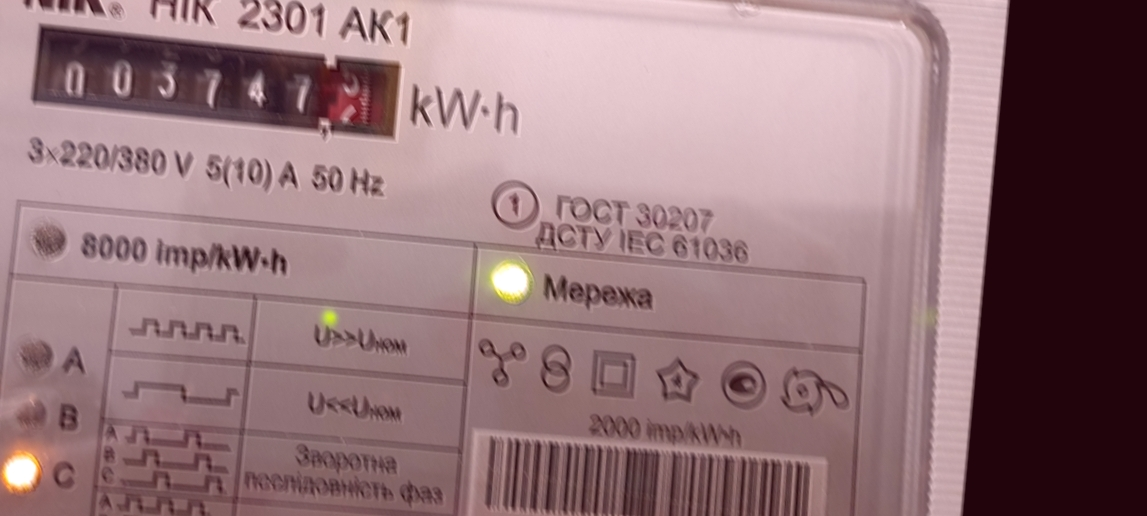0: (64, 61, 89, 98), (112, 59, 135, 99)
3: (158, 61, 180, 100)
4: (246, 68, 270, 109)
5: (341, 68, 363, 98)
6: (339, 103, 359, 126)
7: (290, 72, 315, 114), (201, 68, 224, 109)
screen: (22, 15, 419, 156)
